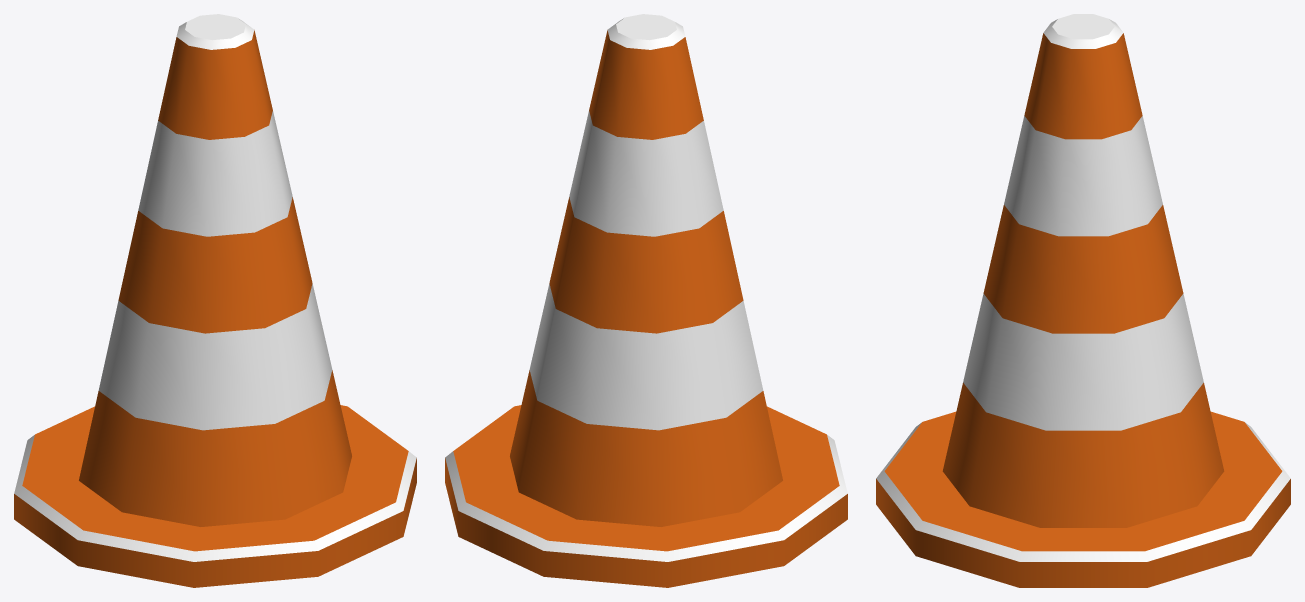
Rendered from TrafficCone.fbx.
3 views of the same model, side by side, from view 1: azimuth 30°, elevation 25°; view 2: azimuth 150°, elevation 25°; view 3: azimuth 270°, elevation 25° (orthographic).
Parts seen in each view (by area): view 1: Traffic Cone; view 2: Traffic Cone; view 3: Traffic Cone.
Part boxes in pixels (<box>): Traffic Cone: <box>14,14,416,587</box>; Traffic Cone: <box>445,14,847,587</box>; Traffic Cone: <box>876,14,1290,587</box>.
Size of the model in its own units: 190 by 254 by 200.
